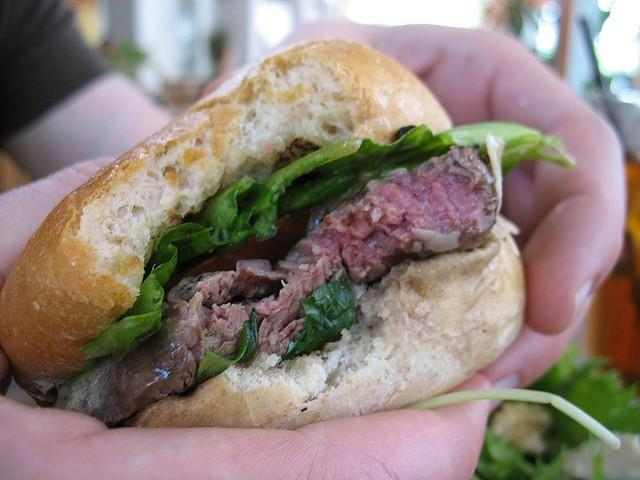lettuce: (79, 176, 257, 360), (172, 139, 364, 276), (279, 124, 457, 212), (524, 338, 640, 466), (450, 120, 574, 181), (280, 274, 356, 362), (476, 427, 571, 480), (196, 308, 259, 386)
